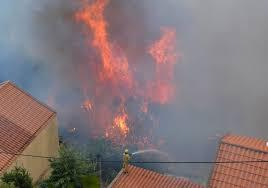fire: (75, 0, 177, 145)
